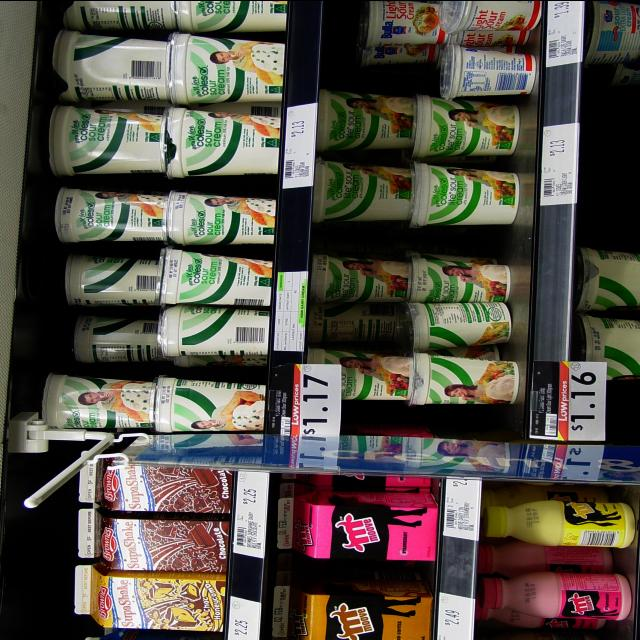empty_space: (588, 94, 640, 230)
